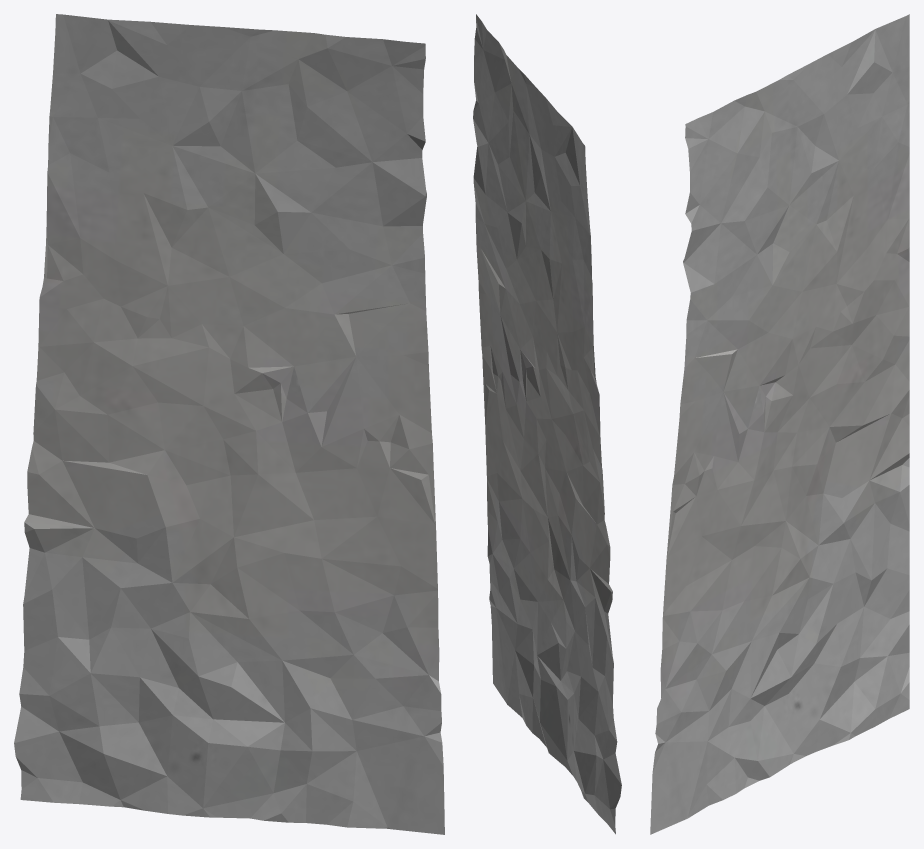
The picture shows the model from 3 angles, left to right: view 1: azimuth 30°, elevation 25°; view 2: azimuth 150°, elevation 25°; view 3: azimuth 270°, elevation 25°; orthographic projection. The views are drawn at different scales.
Bounding box in the file's own units: 0.3258 × 0.8373 × 0.2772.
1 material, 1 textured.
